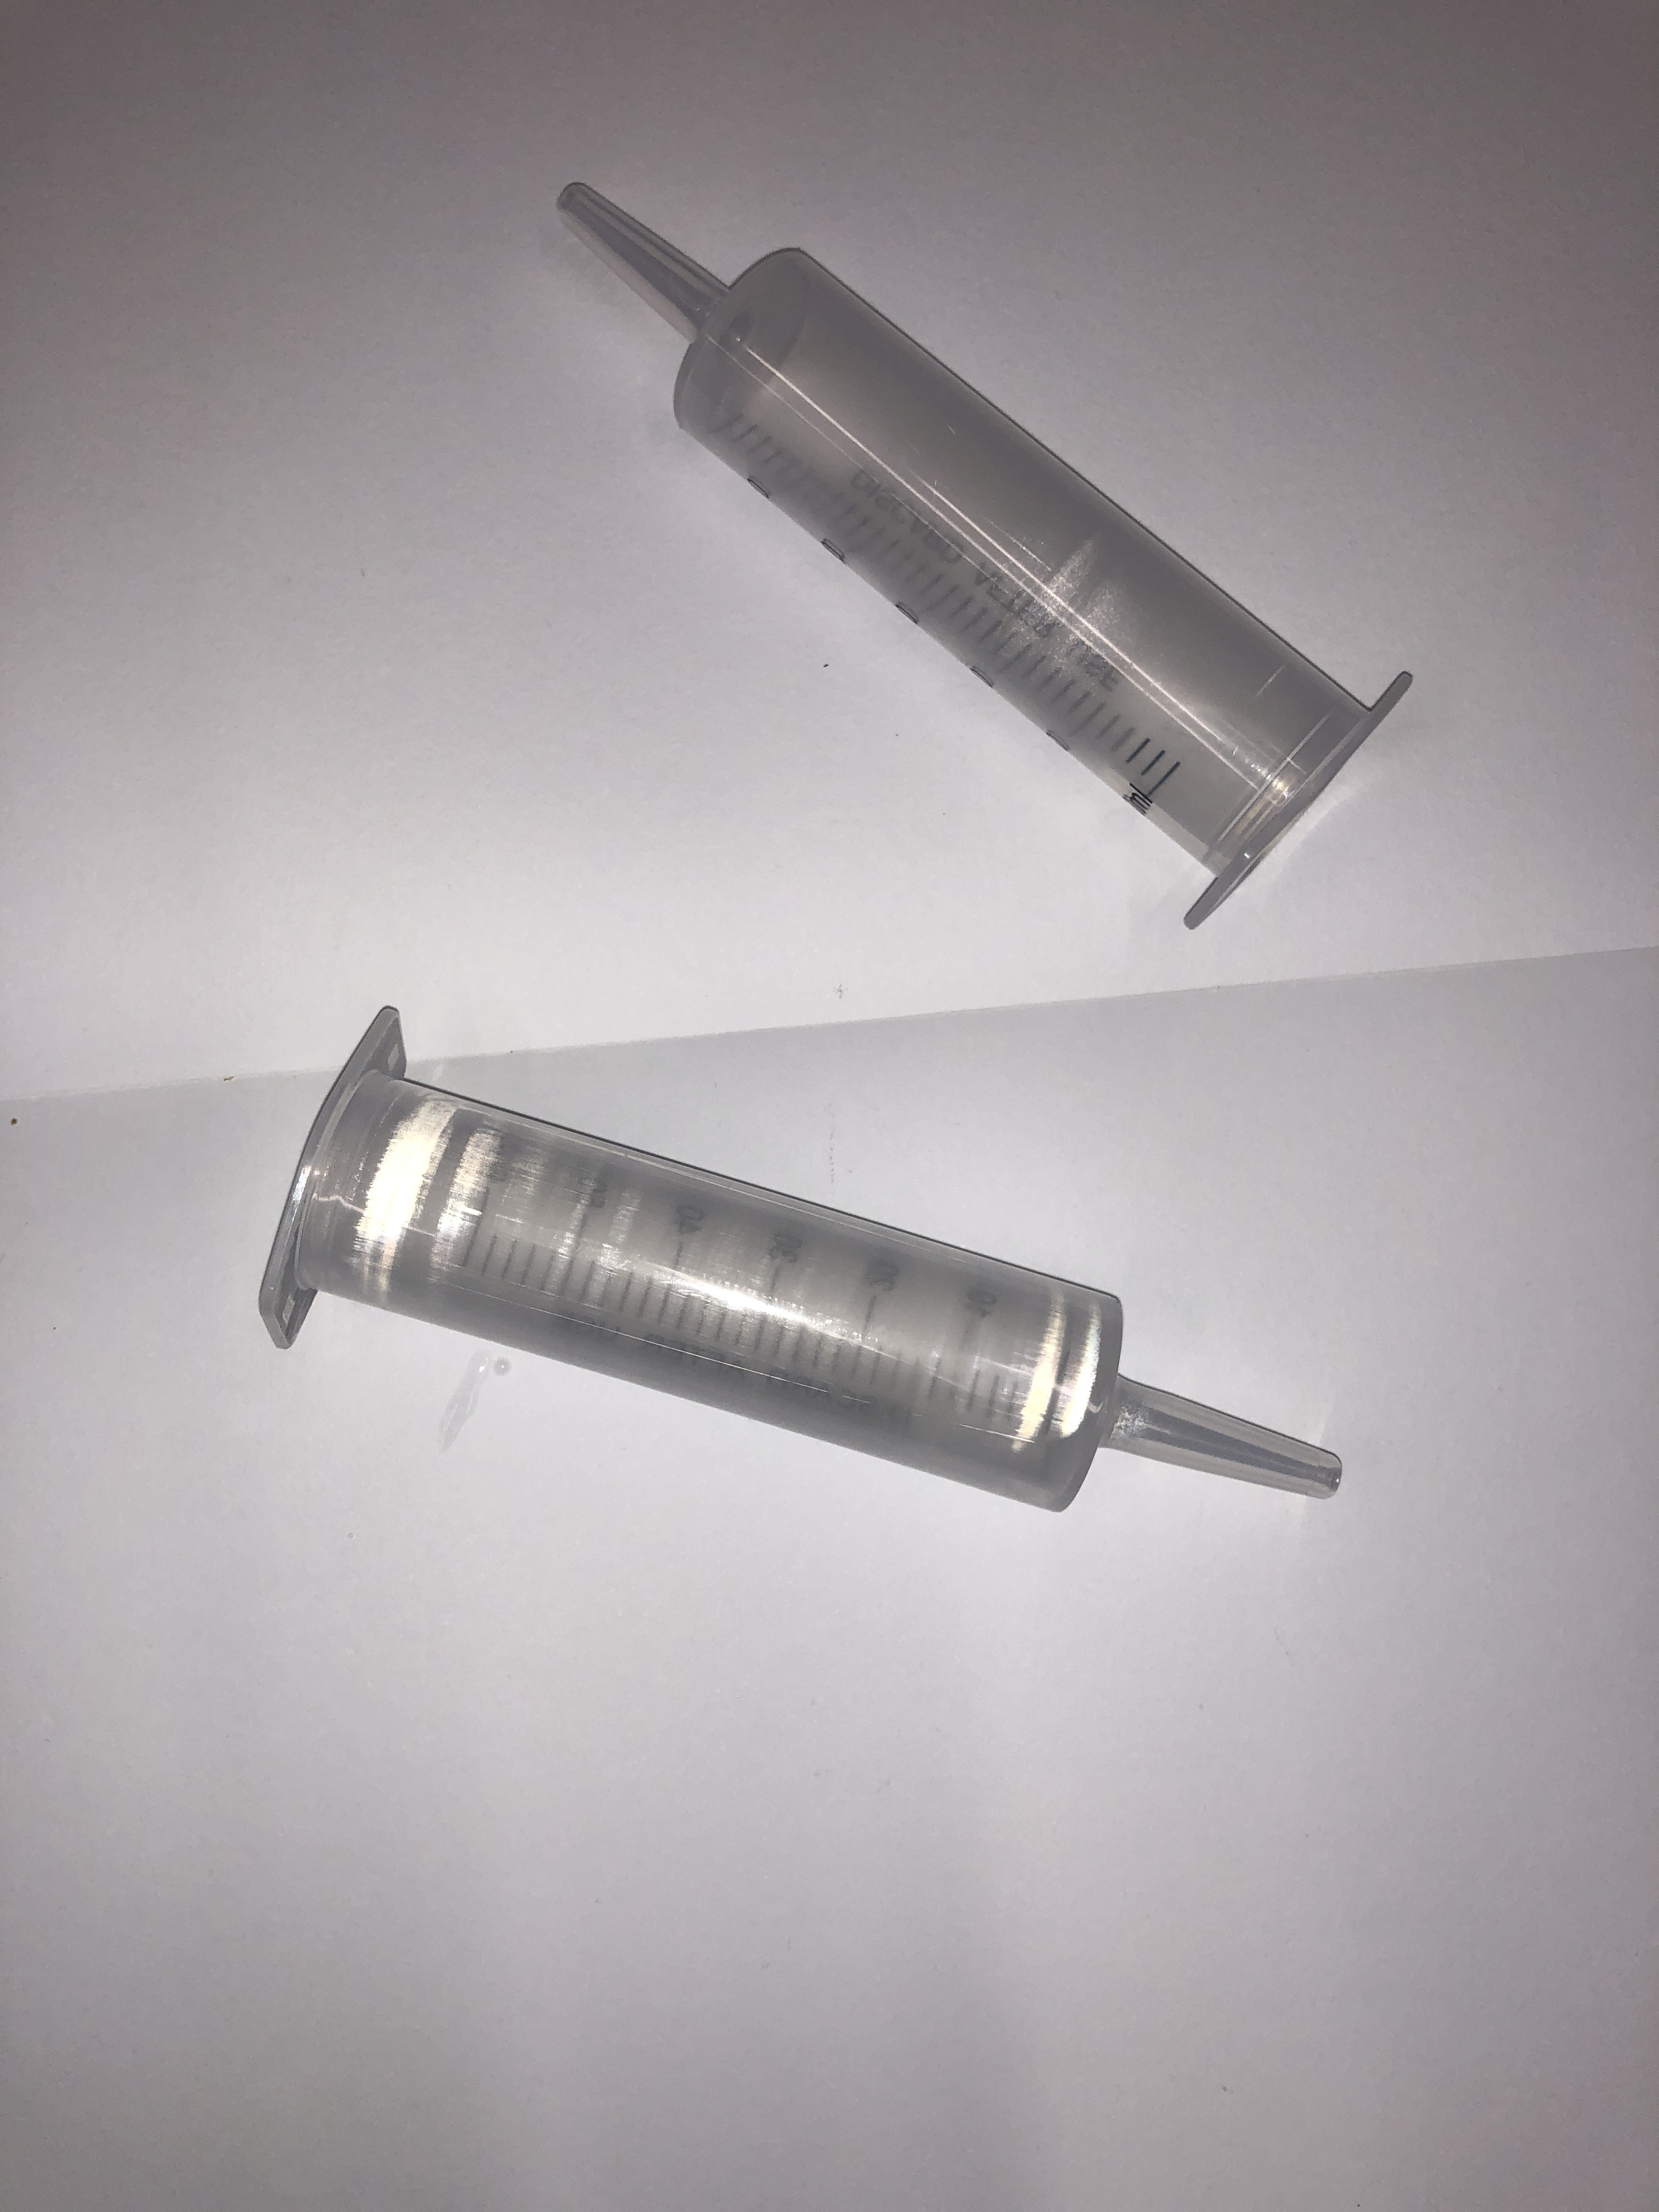syringe: (558, 172, 1431, 937), (258, 1000, 1340, 1524)
